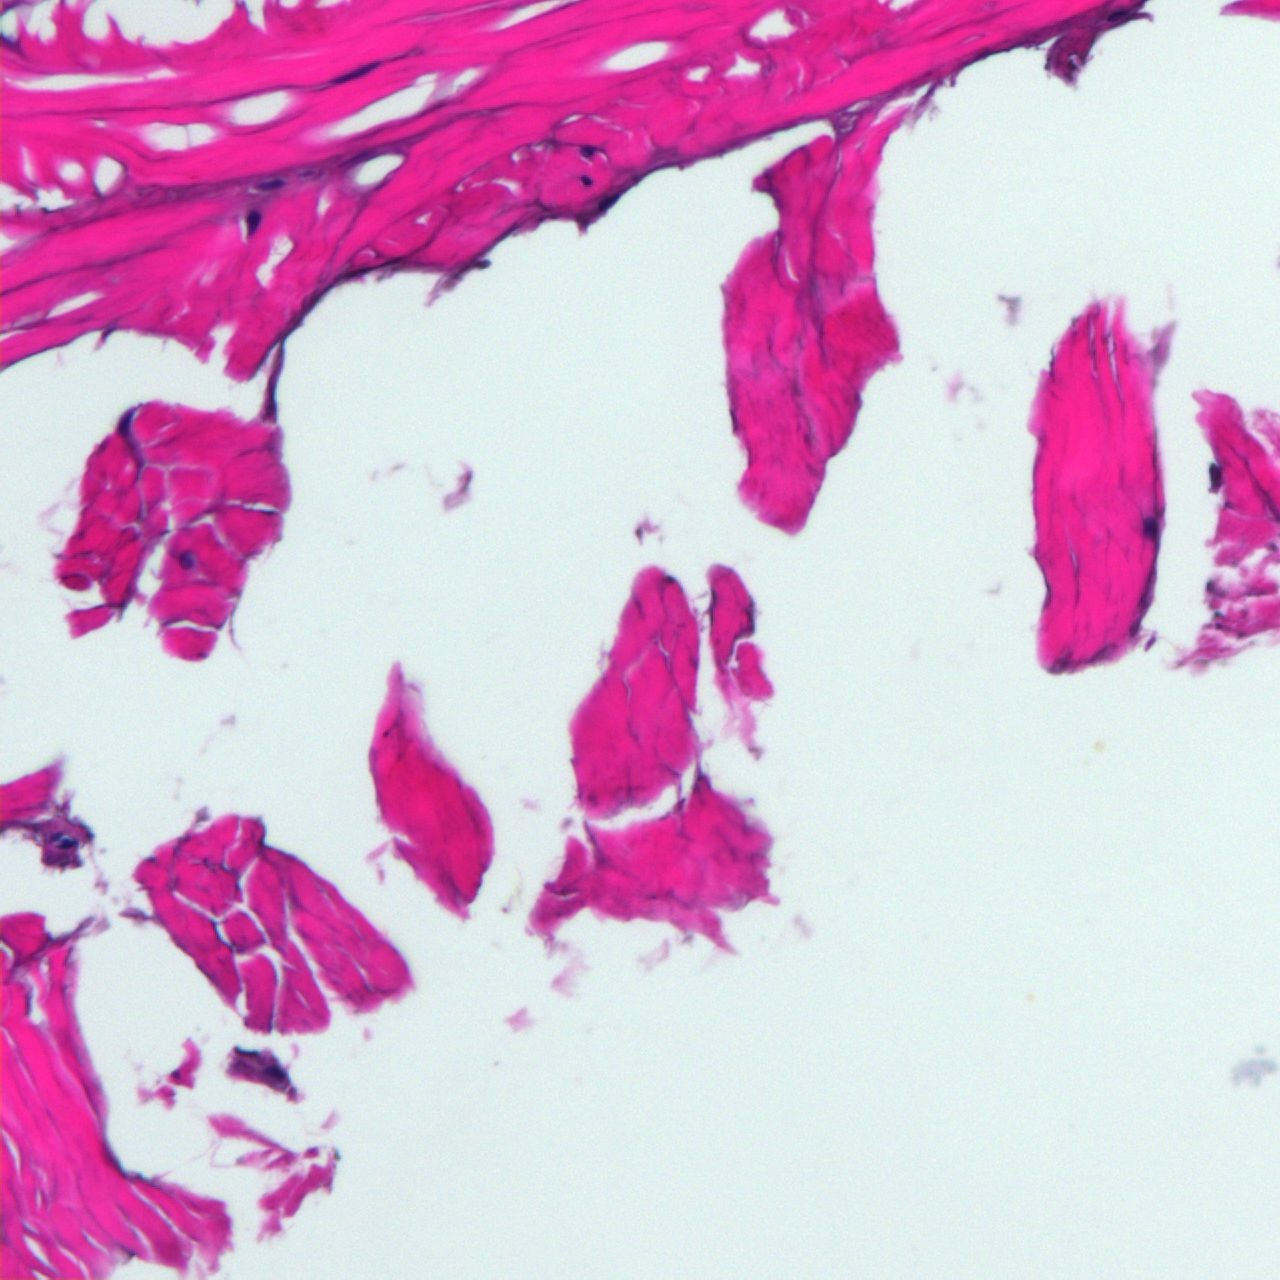dust: (1094, 741, 1105, 753), (1024, 993, 1033, 1002)
nucleus-HE: (266, 1060, 287, 1083), (1105, 5, 1128, 22), (1207, 463, 1223, 486), (181, 550, 195, 568), (247, 212, 259, 233), (1143, 518, 1156, 537), (260, 179, 281, 190), (580, 173, 592, 186), (583, 145, 592, 155), (668, 577, 673, 583)
